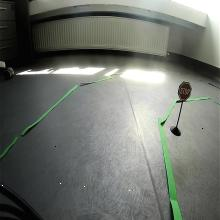stop: (178, 81, 192, 101)
